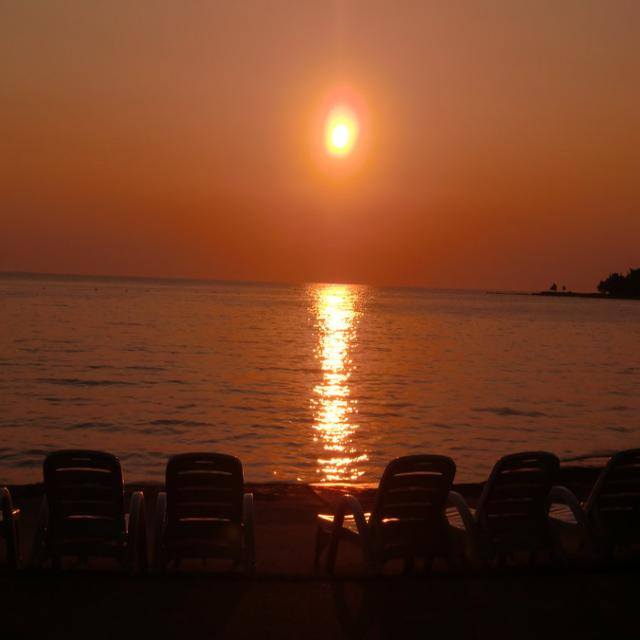chair: (320, 411, 447, 640), (22, 439, 153, 623), (469, 423, 576, 639), (163, 430, 254, 614), (583, 398, 640, 640)
